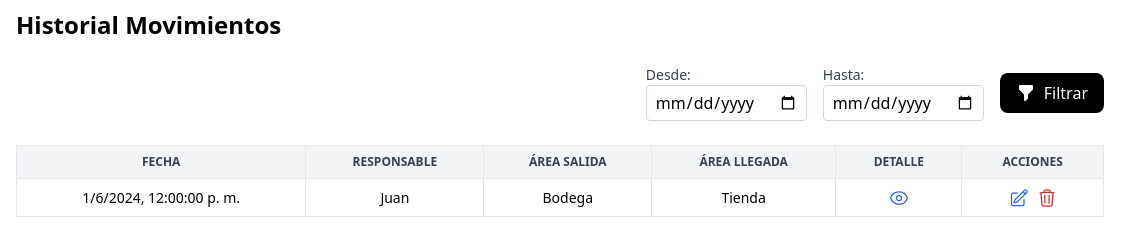
it: HistorialMovimientos › filtra por fecha correctamente
This screenshot has width=1121, height=234.
Expected: the text "Juan" is shown, [306,178,484,217]
Type "2024-06-10" into the date field labelled "Desde:" at coordinates (726, 103), box [646,85,807,121]
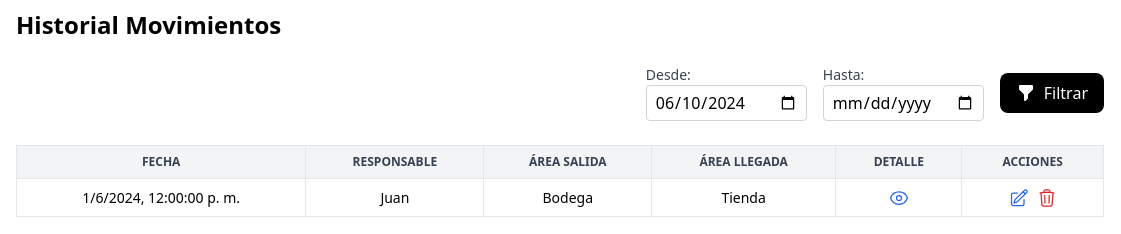
Type "2024-06-11" into the date field labelled "Hasta:" at coordinates (903, 103), box [823,85,984,121]
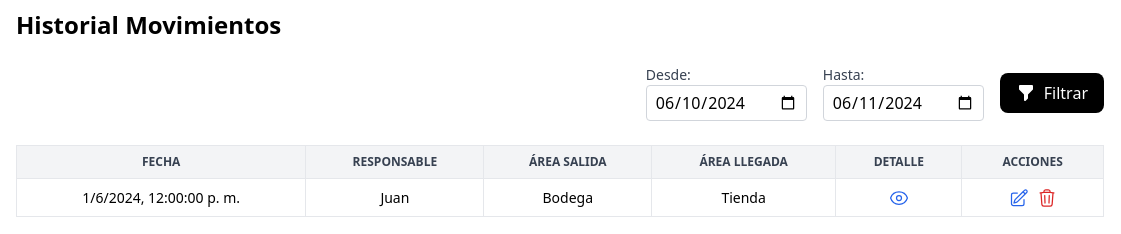
Click the button "Filtrar" at coordinates (1052, 93), box [1000,73,1104,113]
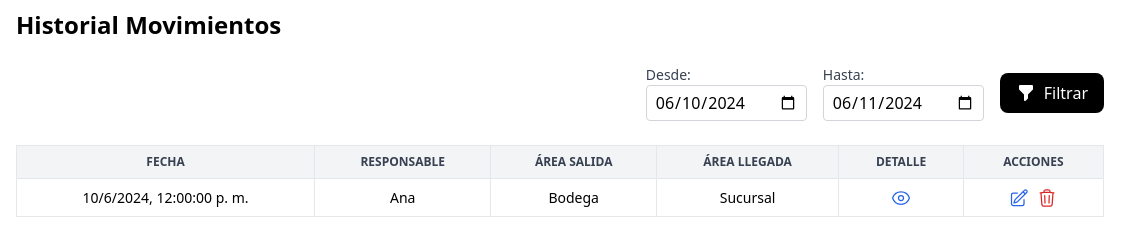
Expected: the text "Ana" is shown, [315,178,491,217]
Expected: the text "Sucursal" is shown, [656,178,839,217]
